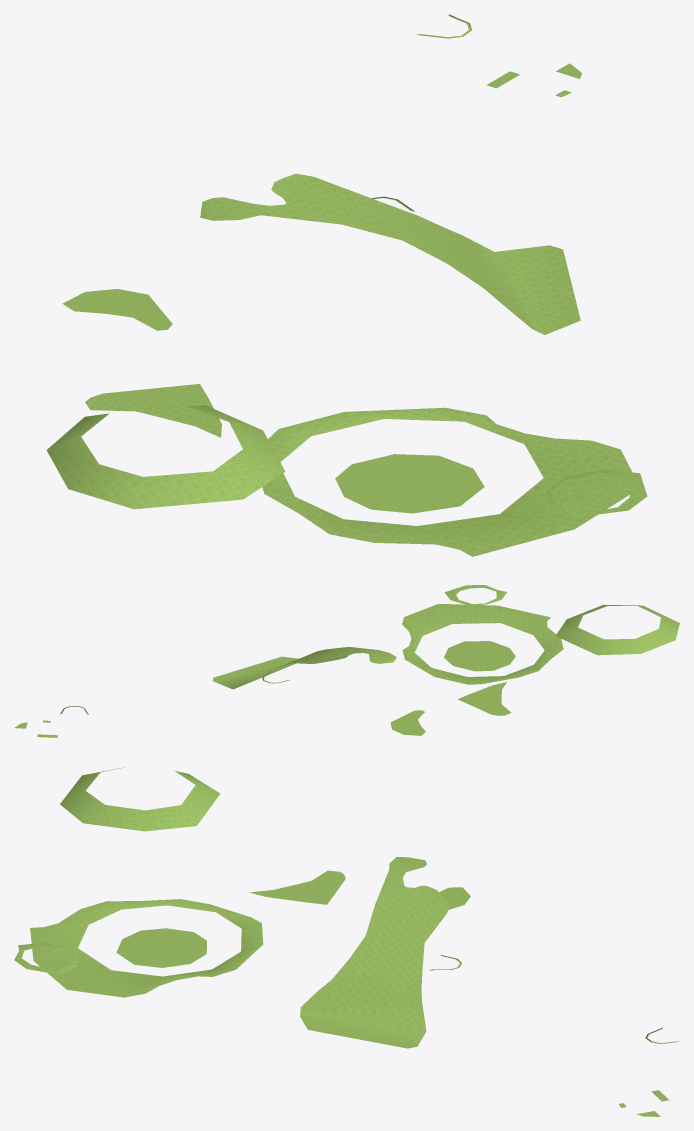
The model's file is kd_stage_136599_16_1_bounded.glb.
3 renders of one model, top to bottom at view 1: azimuth 30°, elevation 25°; view 2: azimuth 150°, elevation 25°; view 3: azimuth 270°, elevation 25°, orthographic. The views are drawn at different scales.
Parts seen in each view (by area): view 1: kd_stage_136599_16_1_bounded; view 2: kd_stage_136599_16_1_bounded; view 3: kd_stage_136599_16_1_bounded.
Part boxes in pixels (box(x1,y1,x2,y2)): kd_stage_136599_16_1_bounded: box(46, 14, 647, 556); kd_stage_136599_16_1_bounded: box(14, 585, 679, 737); kd_stage_136599_16_1_bounded: box(14, 767, 679, 1116).
Bounding box in the file's own units: 422 × 59.21 × 413.
Materials: 1 (1 with a texture image).
